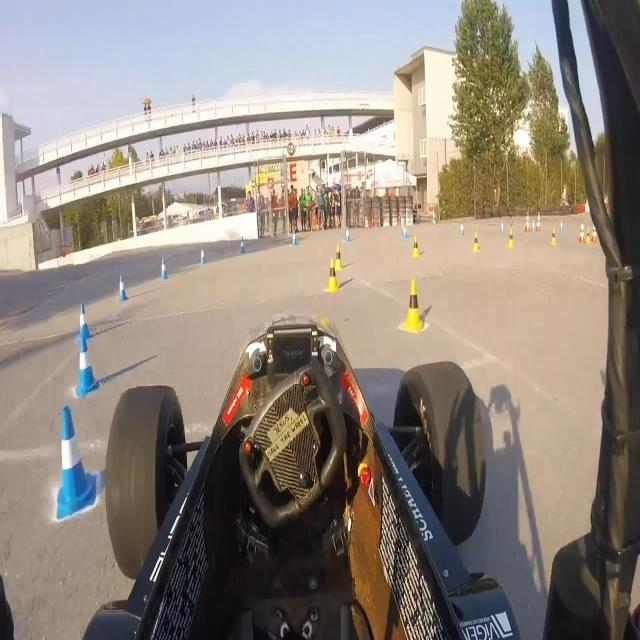blue_cone: (56, 408, 96, 524), (77, 335, 100, 400), (75, 302, 92, 343), (116, 274, 128, 303), (158, 256, 168, 281), (199, 244, 206, 264), (290, 231, 298, 248), (239, 238, 245, 255), (344, 228, 350, 244), (402, 226, 408, 240), (532, 219, 536, 234), (460, 222, 464, 236), (560, 218, 564, 231), (500, 221, 504, 233)
large_orange_cone: (578, 220, 586, 244), (524, 210, 531, 233), (535, 212, 542, 232), (592, 221, 598, 244)
yellow_cone: (400, 274, 424, 332), (327, 258, 339, 296), (333, 244, 343, 272), (412, 237, 419, 260), (473, 231, 480, 254), (508, 229, 515, 250), (551, 228, 557, 248), (586, 228, 591, 244)
